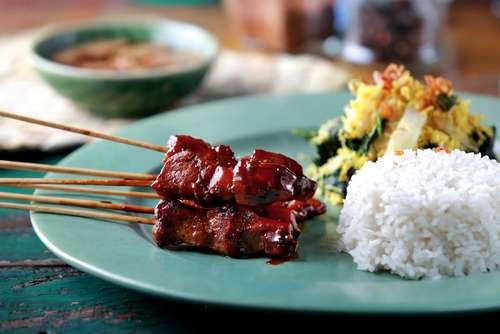sate_madura: (1, 105, 317, 260)
